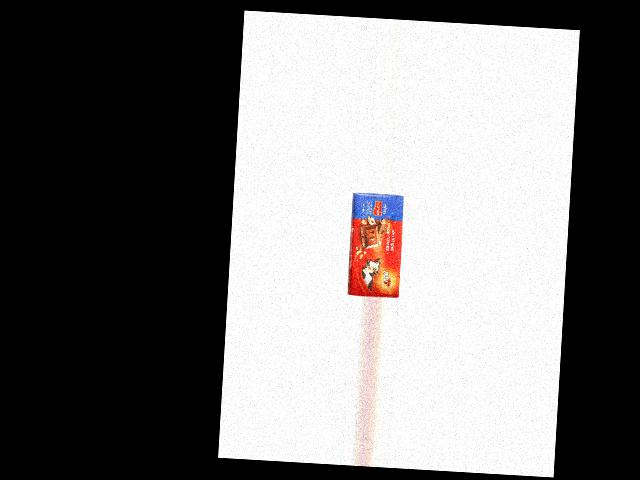chocolate: (347, 192, 404, 298)
